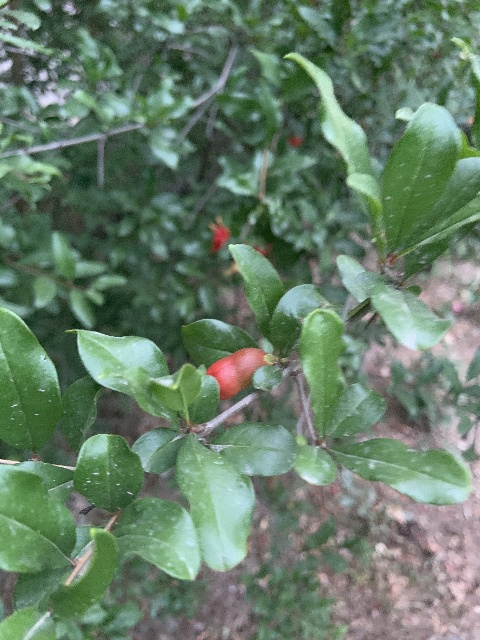bud: (206, 347, 270, 401)
